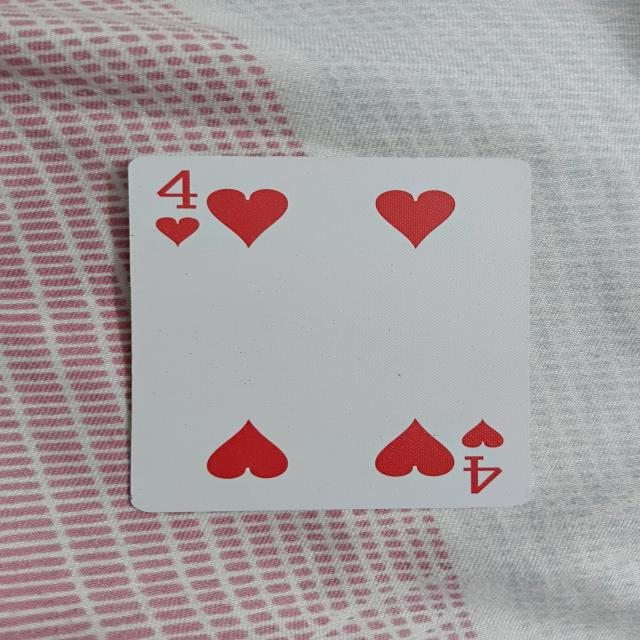4H: (142, 152, 530, 505)
